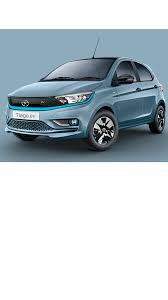Tiago: (3, 54, 168, 156)
